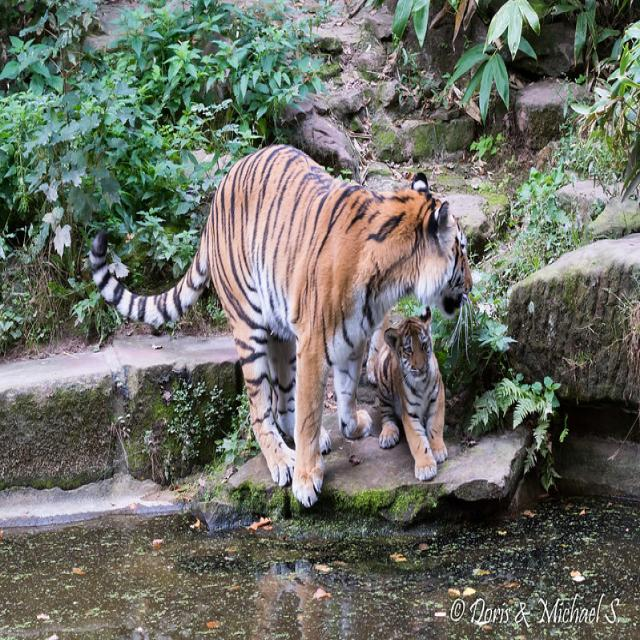Tiger: (97, 131, 486, 509), (363, 284, 464, 494)
